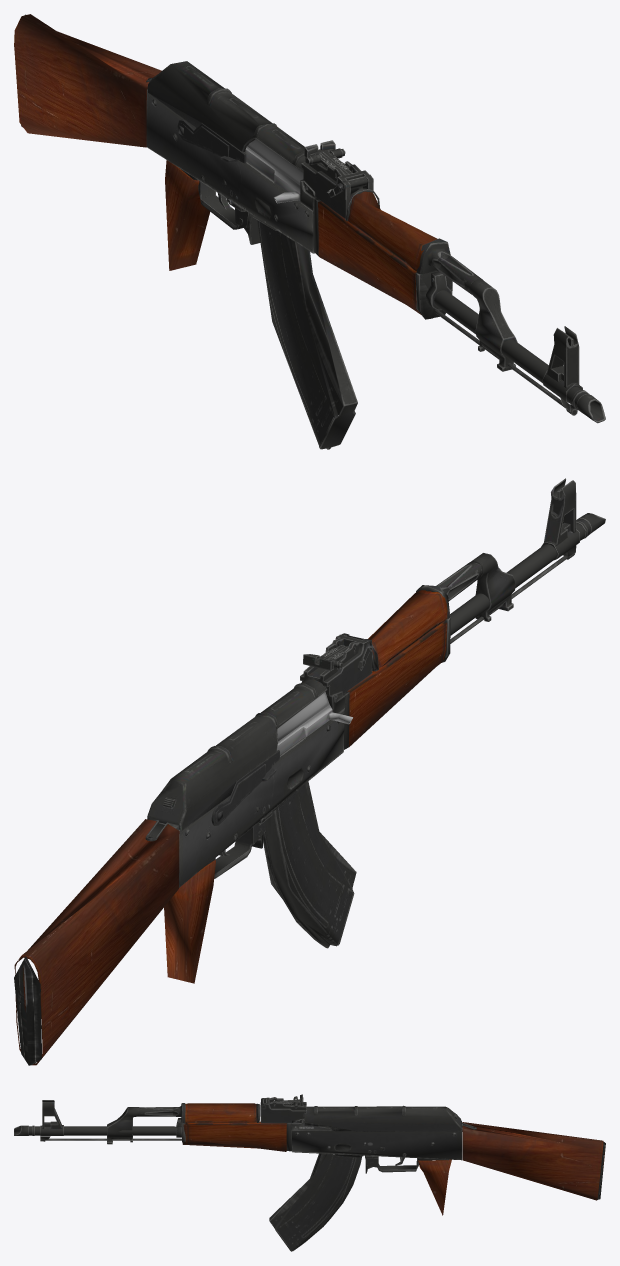
File: ak47_leve.glb
3 renders of one model, top to bottom at view 1: azimuth 30°, elevation 25°; view 2: azimuth 150°, elevation 25°; view 3: azimuth 270°, elevation 25°, orthographic. The views are drawn at different scales.
Parts seen in each view (by area): view 1: None; view 2: None; view 3: None.
Boxes of the visible parts, <box> form: None: <box>14,14,605,449</box>; None: <box>14,478,605,1065</box>; None: <box>14,1094,605,1251</box>.
Size of the model in its own units: 0.0522 by 0.2522 by 0.8817.
Materials: 1 (1 with a texture image).
